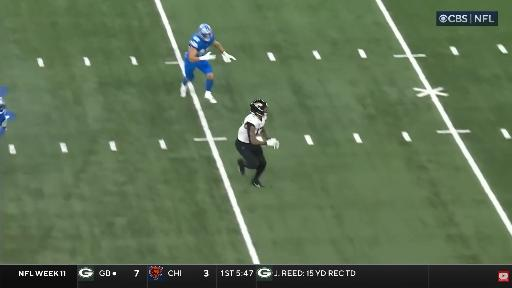Helmet: (250, 100, 268, 116), (198, 24, 212, 41), (0, 98, 6, 110)
Jersey: (238, 114, 266, 143), (189, 34, 214, 56), (0, 110, 7, 133)
Player: (181, 24, 235, 103), (235, 100, 279, 187), (0, 98, 7, 134)
